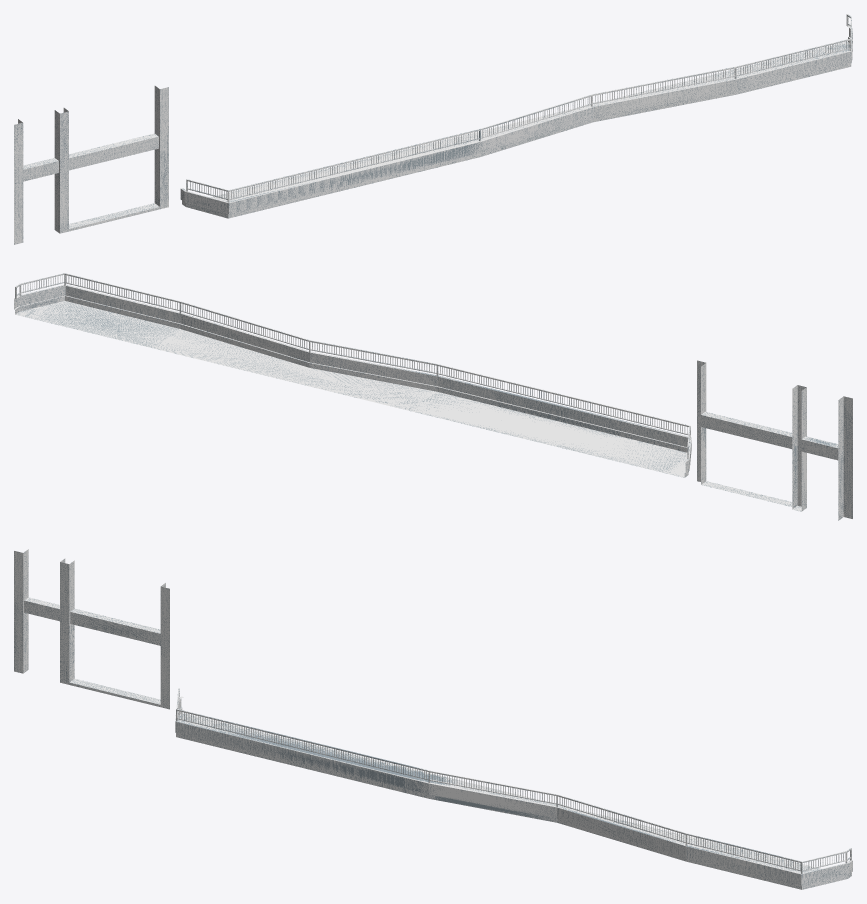
File: BuildingFloor.fbx
3 views of the same model, one above another, from view 1: azimuth 30°, elevation 25°; view 2: azimuth 150°, elevation 25°; view 3: azimuth 330°, elevation 25° (orthographic).
Parts seen in each view (by area): view 1: Balcony1_1, Facade1_1; view 2: Balcony1_1, Facade1_1; view 3: Balcony1_1, Facade1_1.
Part boxes in pixels (x1,y1,x2,y2): Balcony1_1: (180, 14, 852, 218); Facade1_1: (14, 86, 168, 244); Balcony1_1: (14, 273, 691, 477); Facade1_1: (697, 360, 852, 520); Balcony1_1: (175, 688, 852, 889); Facade1_1: (14, 549, 169, 709).
Bounding box in the file's own units: 36356 × 5000 × 2460.
